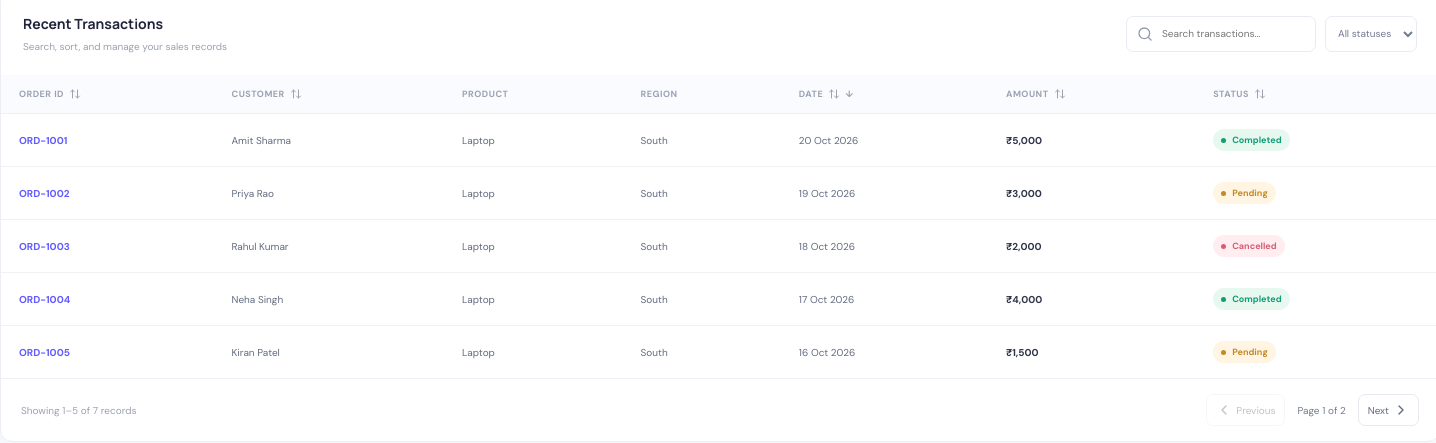
Scenario: TransactionsTable › moves to the next page and back
What coordinates should you click on to do the following:
click the button with aria-label "Next page"
I would click on:
 (1388, 410)
Its box is top-left (1358, 394), bottom-right (1419, 426).
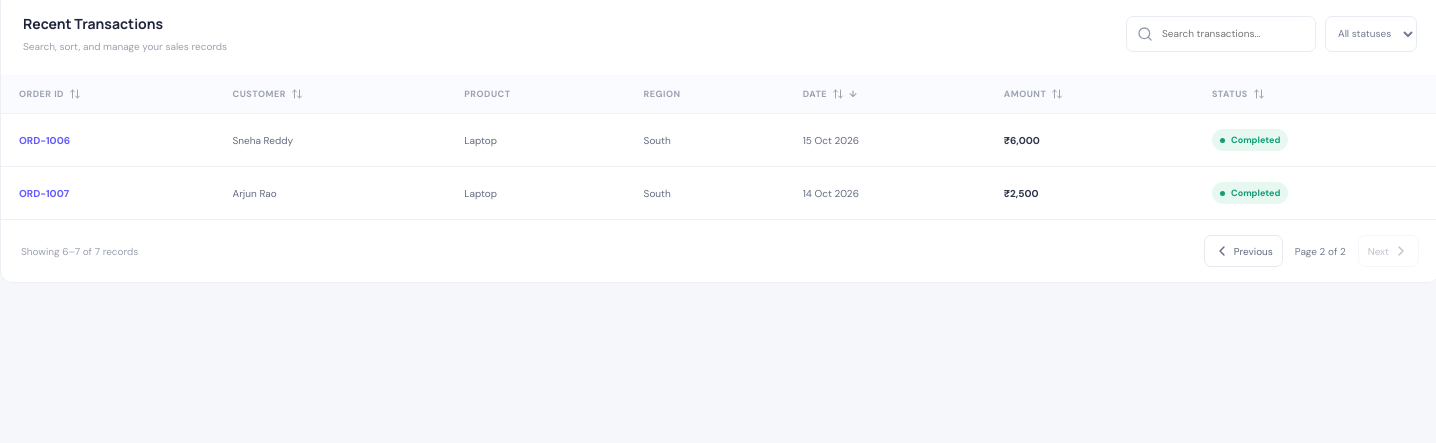
Expected: the text "Showing 6–7 of 7 records" is shown, top-left (21, 244), bottom-right (138, 258)
Expected: the text "ORD-1006" is shown, top-left (1, 114), bottom-right (214, 166)
Expected: the text "ORD-1007" is shown, top-left (1, 166), bottom-right (214, 219)
What coordinates should you click on to do the following:
click the button with aria-label "Previous page"
I would click on:
 (1243, 251)
Its box is top-left (1204, 235), bottom-right (1283, 267).
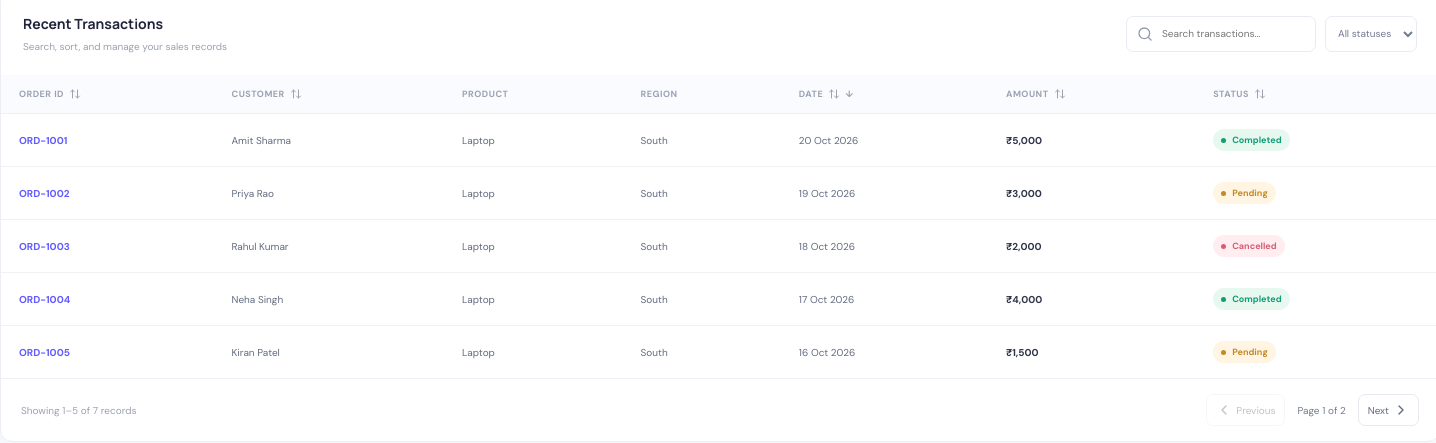
Expected: the text "Showing 1–5 of 7 records" is shown, top-left (21, 404), bottom-right (136, 416)
Expected: the text "ORD-1001" is shown, top-left (1, 114), bottom-right (214, 166)
